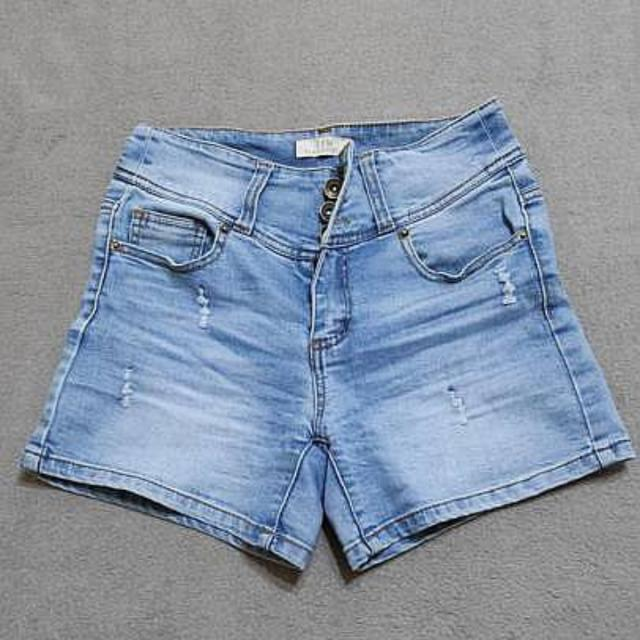SHORT: (16, 94, 640, 585)
